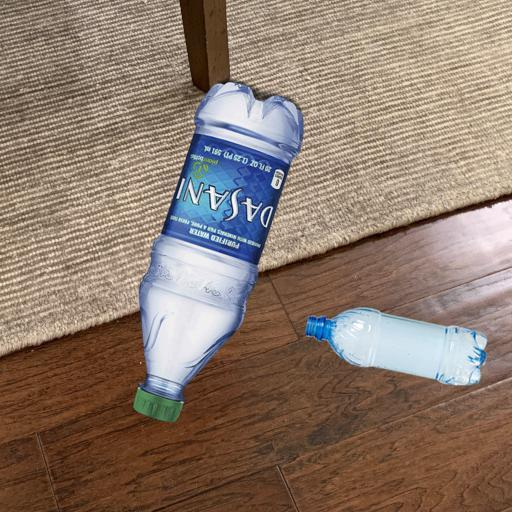bottle: (187, 70, 237, 429), (373, 291, 415, 390)
